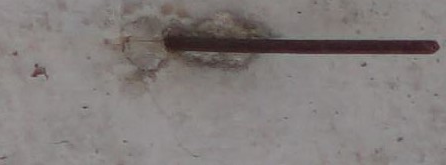Exposed reinforcement: (162, 34, 441, 55)
Spalling: (121, 10, 264, 73)
